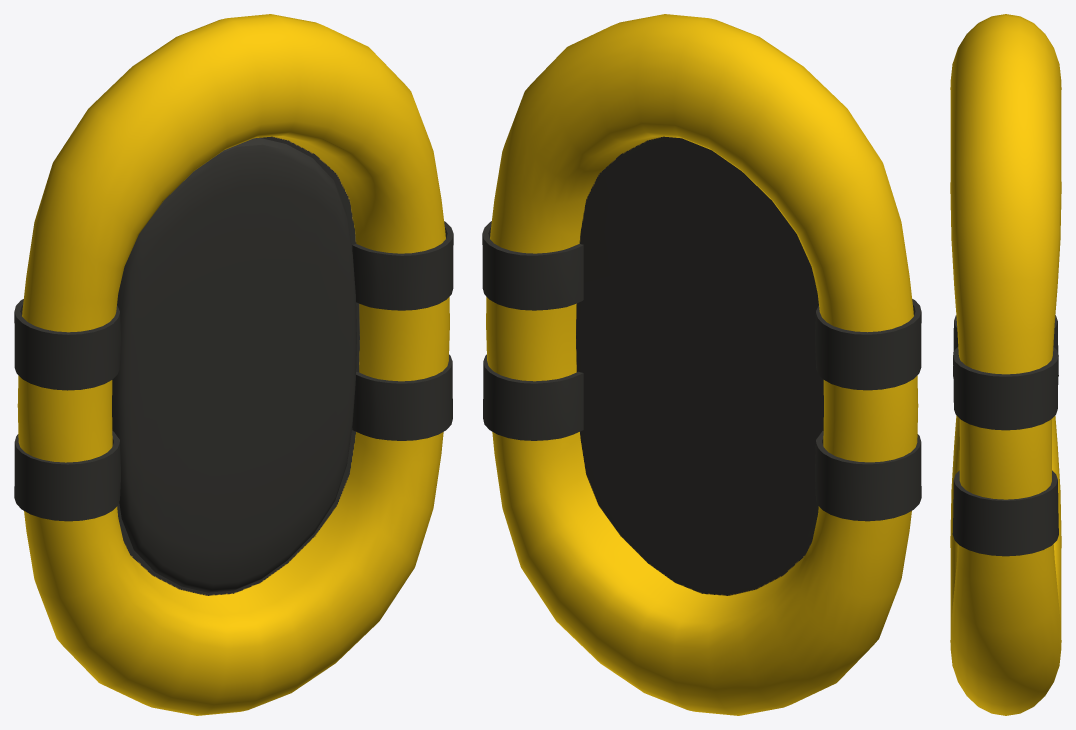
The model's file is PerahuKaret.fbx.
3 views of the same model, side by side, from view 1: azimuth 30°, elevation 25°; view 2: azimuth 150°, elevation 25°; view 3: azimuth 270°, elevation 25° (orthographic). The views are drawn at different scales.
Parts seen in each view (by area): view 1: Perahu; view 2: Perahu; view 3: Perahu.
Boxes of the visible parts, bbox=[...] form: Perahu: bbox=[14, 14, 453, 715]; Perahu: bbox=[482, 14, 921, 715]; Perahu: bbox=[950, 14, 1061, 715].
Bounding box in the file's own units: 124 × 192 × 28.98.
1 material, 1 textured.
